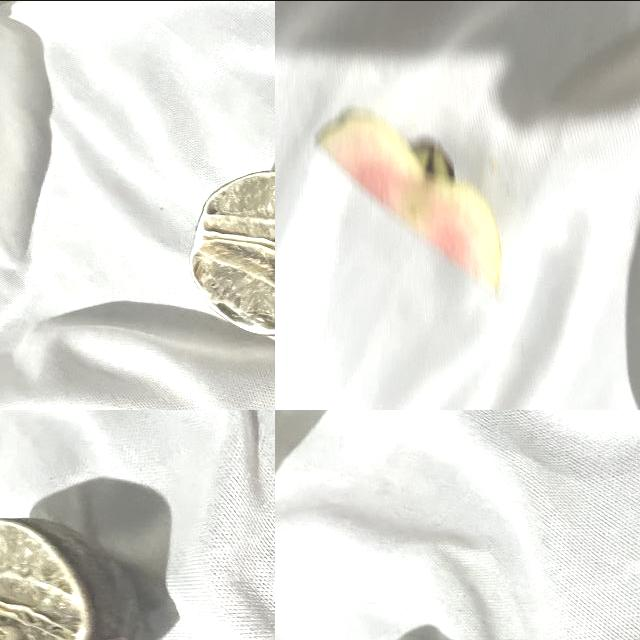General: (2, 2, 637, 637)
Sharps: (312, 104, 503, 294), (188, 168, 276, 337)
